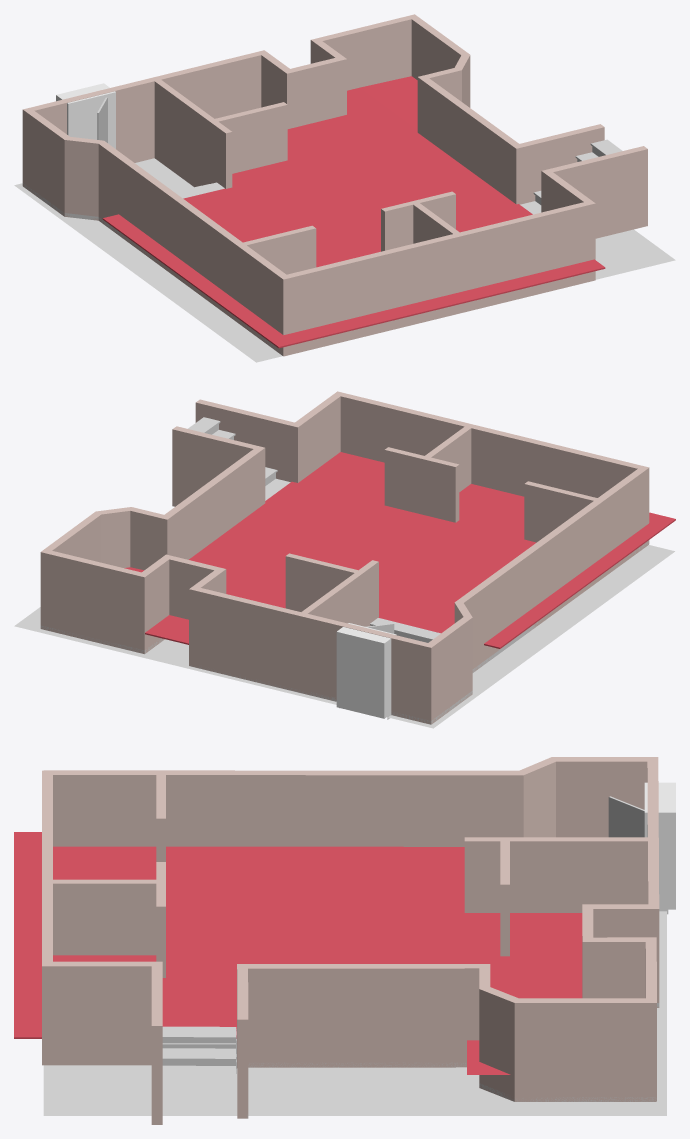
Rendered from blockout.fbx.
The picture shows the model from 3 angles, top to bottom: view 1: azimuth 30°, elevation 25°; view 2: azimuth 150°, elevation 25°; view 3: azimuth 270°, elevation 25°; orthographic projection. The views are drawn at different scales.
Visible parts, largest first — view 1: Room.002, Plane.001, Room.001, Plane, Room.004, Room.005, Room, Room.006, CTRL_Hole, Room.003, Baseboard; view 2: Room.002, Plane.001, Room.001, Plane, CTRL_Hole, Room.006, Room.004, Room, Room.005, Room.003, Baseboard, Stairs.005 (+1 smaller); view 3: Room.002, Plane.001, Plane, Room.001, Room.004, Room.003, CTRL_Hole, Stairs, Stairs.002, Door, Room.005, Room.006 (+2 smaller).
Boxes of the visible parts, x1=… form: Room.002: x1=22, y1=14, x2=604, y2=355; Plane.001: x1=102, y1=76, x2=605, y2=348; Room.001: x1=280, y1=146, x2=647, y2=356; Plane: x1=14, y1=158, x2=675, y2=362; Room.004: x1=154, y1=79, x2=232, y2=188; Room.005: x1=215, y1=102, x2=287, y2=173; Room: x1=242, y1=225, x2=316, y2=274; Room.006: x1=381, y1=191, x2=455, y2=251; CTRL_Hole: x1=56, y1=83, x2=115, y2=148; Room.003: x1=413, y1=202, x2=459, y2=243; Baseboard: x1=22, y1=183, x2=282, y2=355; Room.002: x1=40, y1=426, x2=648, y2=724; Plane.001: x1=124, y1=452, x2=675, y2=648; Room.001: x1=195, y1=391, x2=649, y2=543; Plane: x1=14, y1=545, x2=674, y2=728; CTRL_Hole: x1=336, y1=623, x2=396, y2=718; Room.006: x1=384, y1=447, x2=459, y2=522; Room.004: x1=301, y1=560, x2=378, y2=626; Room: x1=524, y1=481, x2=598, y2=542; Room.005: x1=285, y1=553, x2=360, y2=611; Room.003: x1=424, y1=426, x2=471, y2=491; Baseboard: x1=41, y1=503, x2=648, y2=724; Stairs.005: x1=370, y1=618, x2=440, y2=642; Room.002: x1=44, y1=757, x2=659, y2=1118; Plane.001: x1=14, y1=832, x2=582, y2=1074; Plane: x1=43, y1=911, x2=666, y2=1115; Room.001: x1=42, y1=770, x2=162, y2=1124; Room.004: x1=464, y1=837, x2=647, y2=912; Room.003: x1=49, y1=879, x2=160, y2=955; CTRL_Hole: x1=644, y1=782, x2=675, y2=909; Stairs: x1=162, y1=1048, x2=236, y2=1073; Stairs.002: x1=162, y1=1026, x2=236, y2=1051; Door: x1=608, y1=796, x2=644, y2=837; Room.005: x1=500, y1=839, x2=509, y2=956; Room.006: x1=156, y1=862, x2=165, y2=977.
Bounding box in the file's own units: 1416 × 247 × 1455.
